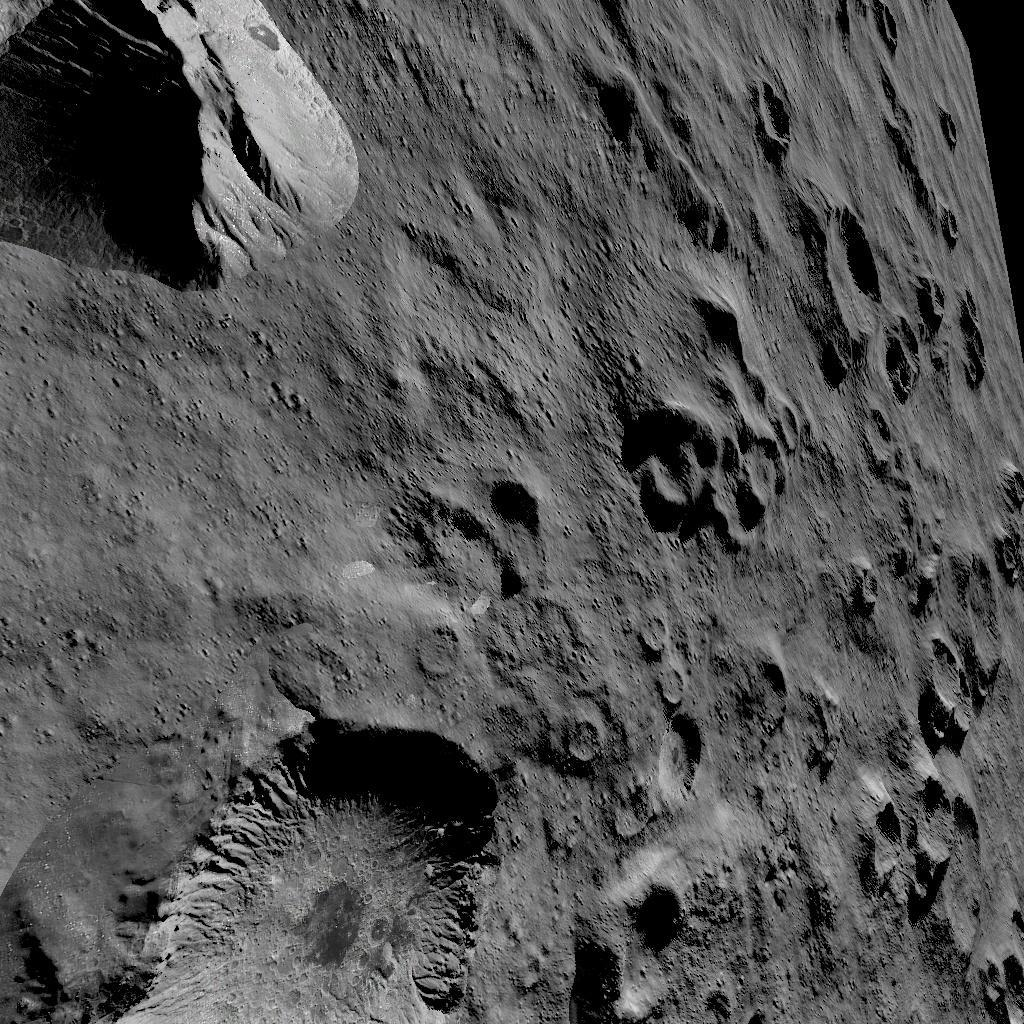Boulders: (0, 0, 360, 292)
Crater: (0, 714, 543, 1024), (627, 401, 829, 550), (854, 774, 1010, 956), (587, 866, 728, 1024), (403, 472, 565, 608), (651, 616, 728, 816), (908, 268, 1024, 400), (818, 190, 894, 386), (927, 640, 1024, 764), (748, 72, 805, 156), (867, 406, 922, 476), (423, 620, 480, 684), (862, 556, 908, 632), (571, 710, 618, 778), (865, 0, 912, 51), (933, 100, 975, 152), (948, 198, 988, 246)
Plan surface: (0, 326, 379, 704), (401, 2, 615, 449)
